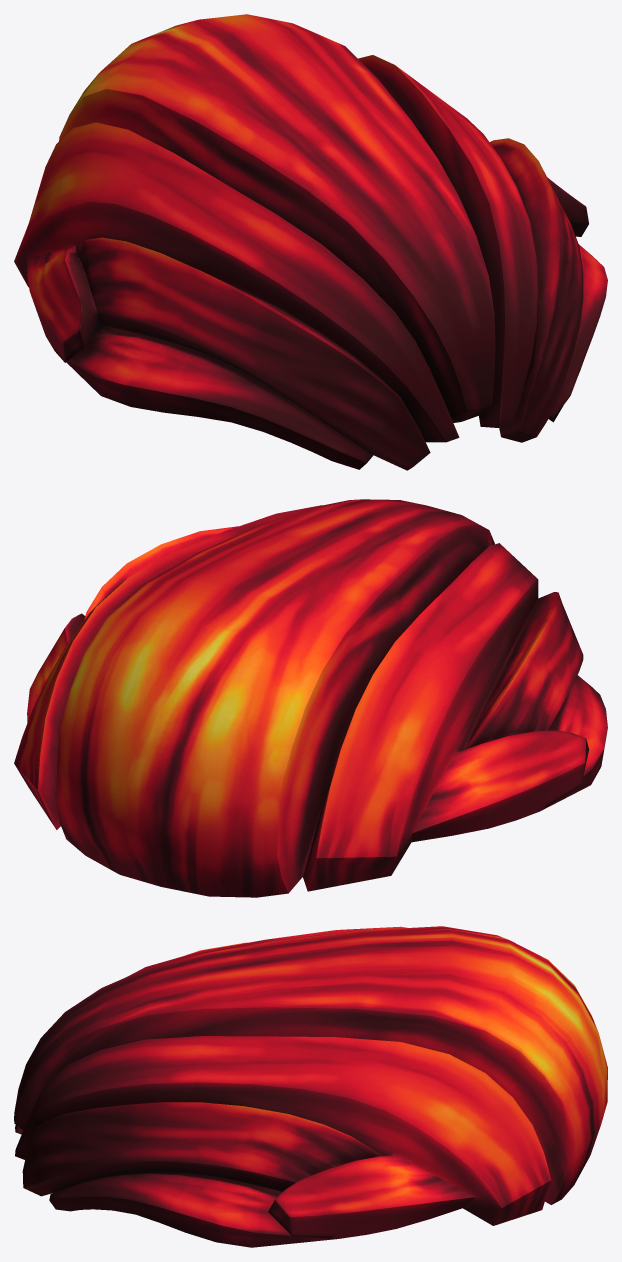
3 views of the same model, one above another, from view 1: azimuth 30°, elevation 25°; view 2: azimuth 150°, elevation 25°; view 3: azimuth 270°, elevation 25° (orthographic). The views are drawn at different scales.
Visible parts, largest first — view 1: geometry_0; view 2: geometry_0; view 3: geometry_0.
Part boxes in pixels (x1,y1,x2,y2): geometry_0: (14,14,607,470); geometry_0: (14,499,607,897); geometry_0: (14,926,607,1247).
Bounding box in the file's own units: 1.17 × 0.5446 × 1.3.
Materials: 1 (1 with a texture image).
